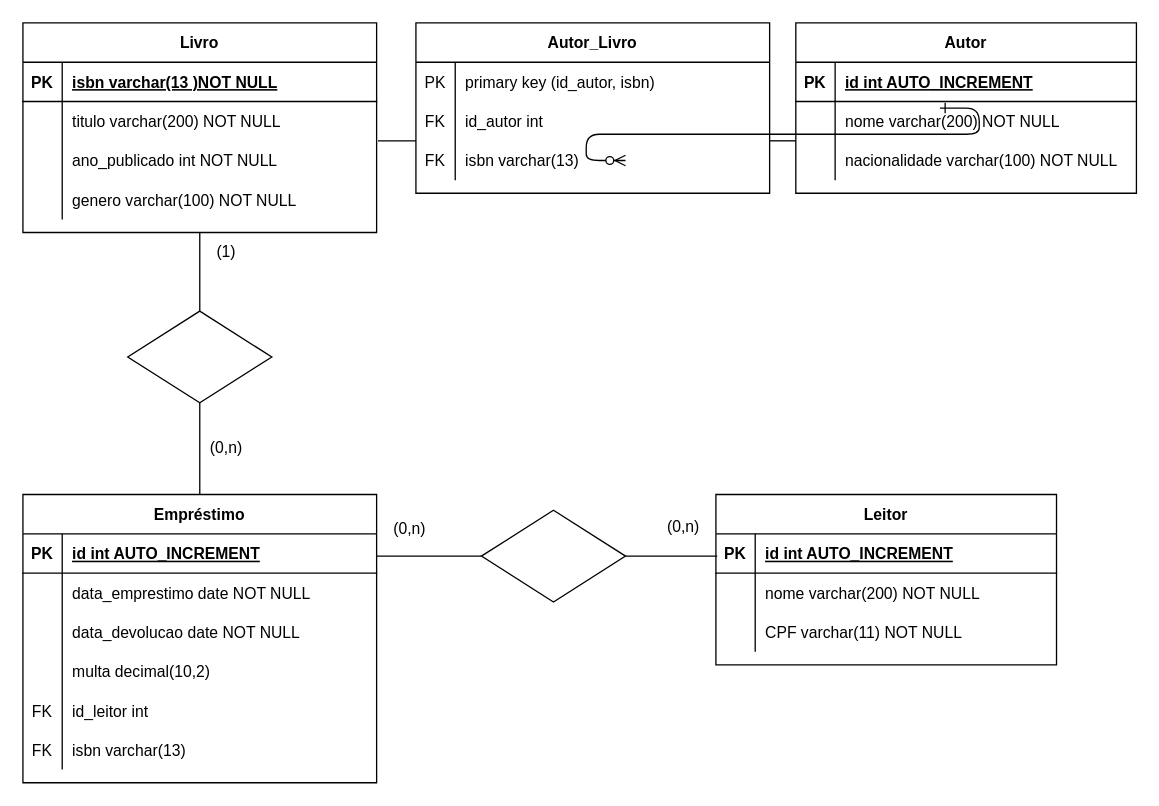
Some shapes in this 1159 by 806 pixel diagram are drawn without their labels. Each missing label, with the centre of its shape:
"PODE REALIZAR" belongs at [553,555].
"PODE SER" belongs at [199,356].
